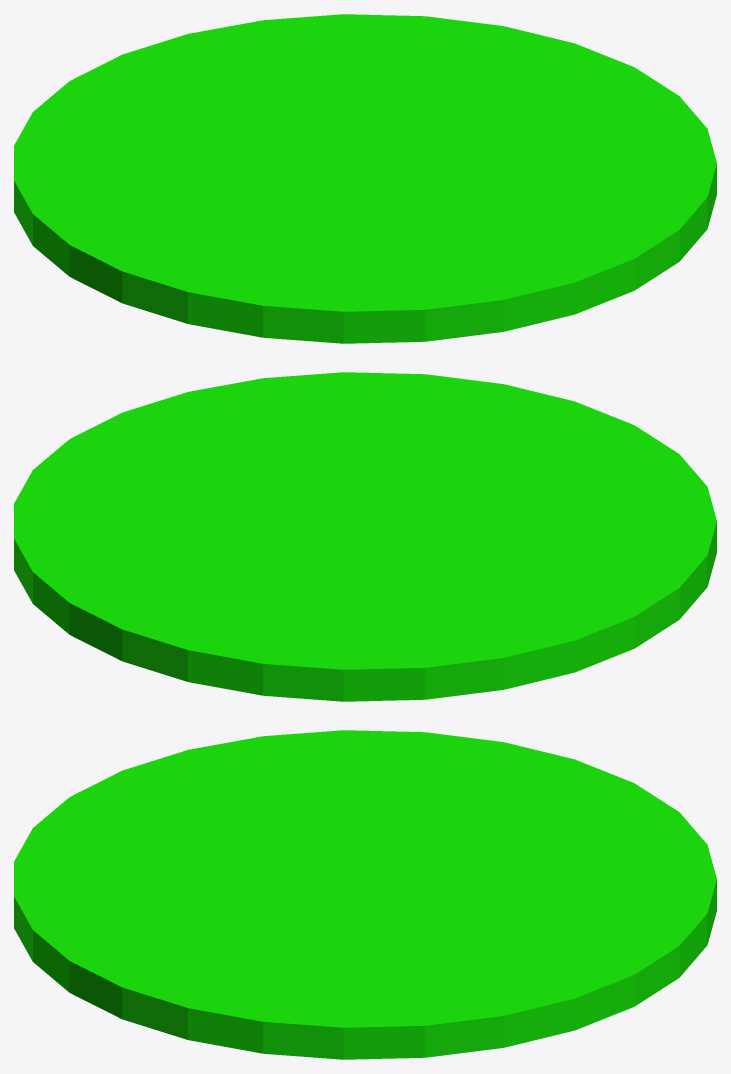
Rendered from Centre-platform.fbx.
3 views of the same model, one above another, from view 1: azimuth 30°, elevation 25°; view 2: azimuth 150°, elevation 25°; view 3: azimuth 270°, elevation 25° (orthographic).
Parts seen in each view (by area): view 1: Circle.003; view 2: Circle.003; view 3: Circle.003.
Boxes of the visible parts, x1,y1,x2,y2 form: Circle.003: (14,14,716,343); Circle.003: (14,372,716,701); Circle.003: (14,730,716,1059).
Size of the model in its own units: 200 by 10 by 199.
